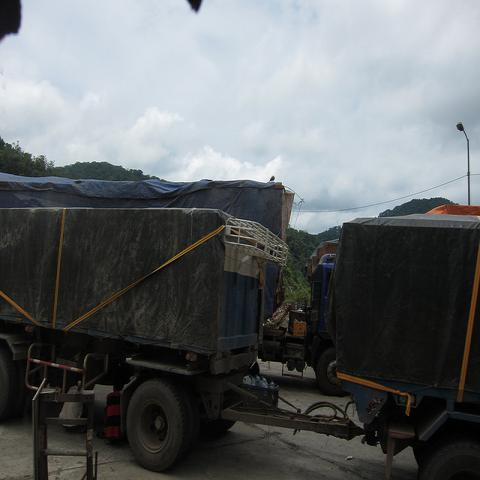truck: (0, 206, 479, 479), (0, 171, 296, 242), (264, 238, 347, 404)
